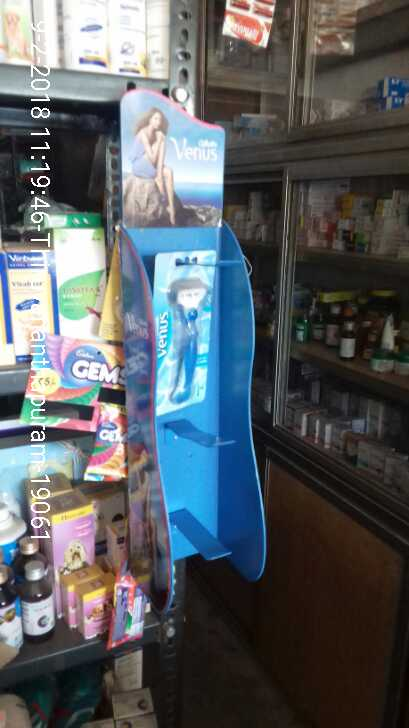venus: (150, 252, 213, 409)
